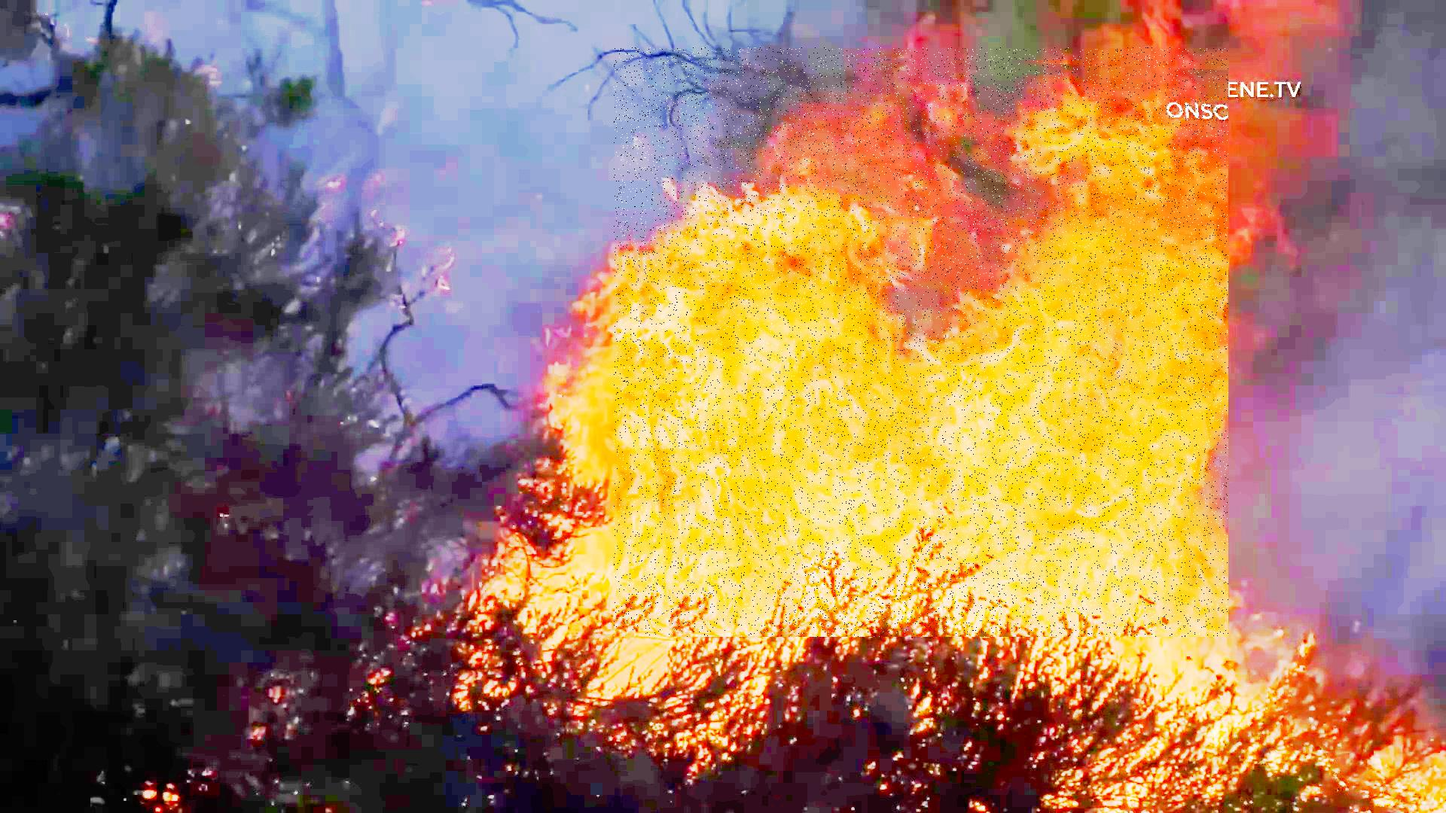fire: (614, 48, 1228, 637)
